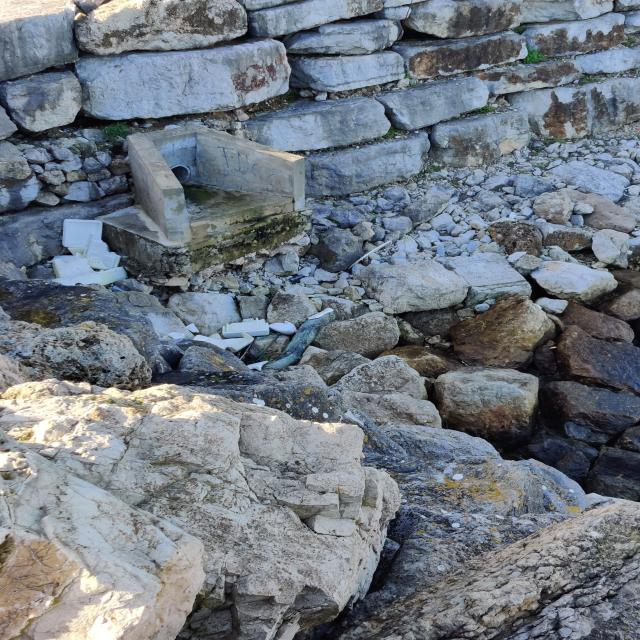litter: (43, 217, 134, 290), (245, 305, 339, 372), (189, 317, 271, 354), (345, 238, 394, 272), (236, 333, 285, 364), (435, 237, 479, 261), (267, 319, 300, 336), (284, 274, 307, 283)
